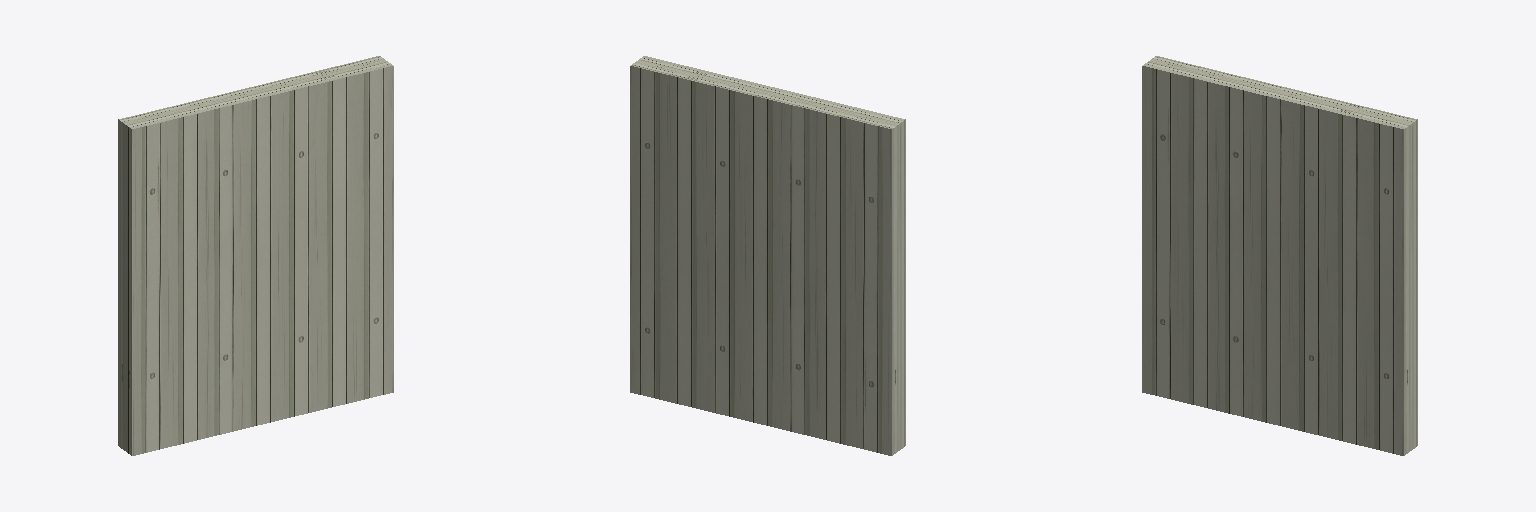
3 renders of one model, left to right at view 1: azimuth 30°, elevation 25°; view 2: azimuth 150°, elevation 25°; view 3: azimuth 330°, elevation 25°, orthographic.
Visible parts, largest first — view 1: pasted__pCube36 group; view 2: pasted__pCube36 group; view 3: pasted__pCube36 group.
Part boxes in pixels (left/top/right/bottom): pasted__pCube36 group: left=118, top=56, right=393, bottom=455; pasted__pCube36 group: left=630, top=56, right=905, bottom=455; pasted__pCube36 group: left=1142, top=56, right=1417, bottom=455.
Bounding box in the file's own units: 1.83 × 2.19 × 0.1667.
1 materials, 1 textured.